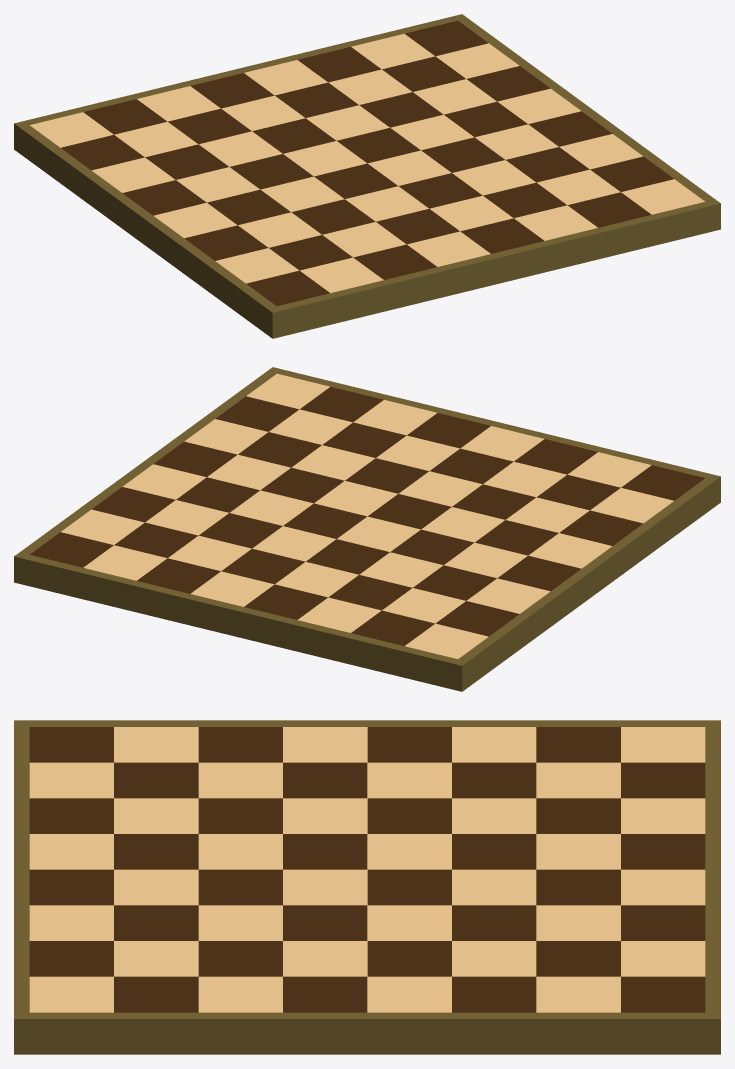
File: CHESS.glb
The picture shows the model from 3 angles, top to bottom: view 1: azimuth 30°, elevation 25°; view 2: azimuth 150°, elevation 25°; view 3: azimuth 270°, elevation 25°; orthographic projection. The views are drawn at different scales.
Visible parts, largest first — view 1: Cube; view 2: Cube; view 3: Cube.
Boxes of the visible parts, x1,y1,x2,y2 form: Cube: [14, 14, 720, 338]; Cube: [14, 367, 720, 691]; Cube: [14, 720, 720, 1054].
Bounding box in the file's own units: 0.3333 × 0.0185 × 0.3333.
